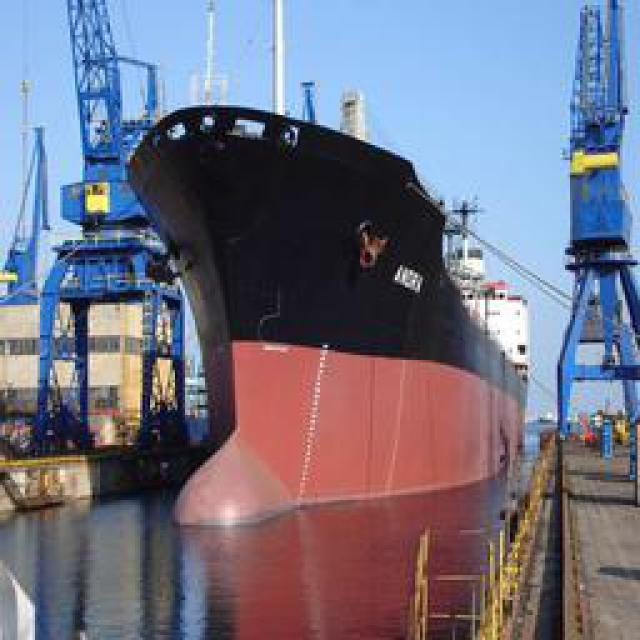Ship: (83, 7, 566, 542)
